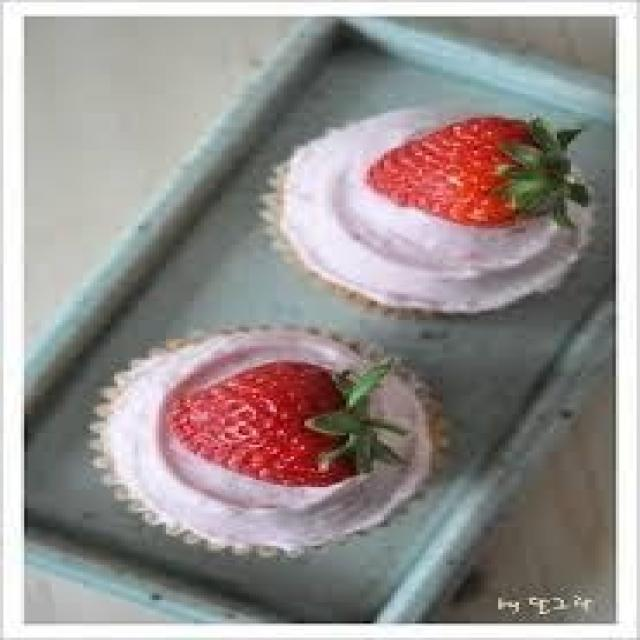mature: (169, 363, 363, 488), (369, 116, 547, 228)
